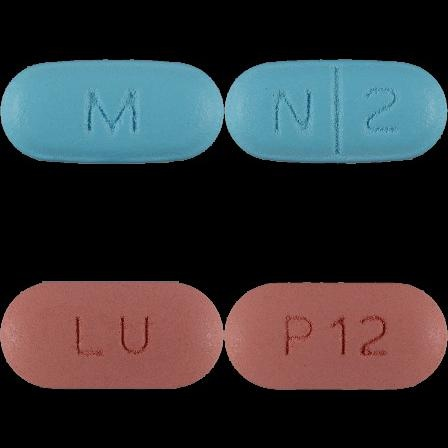61786-289: (0, 0, 224, 224)
